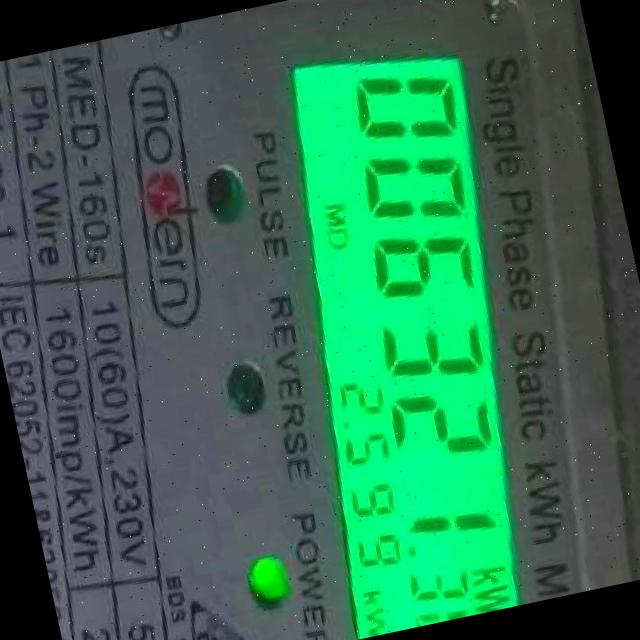LCD: (225, 9, 582, 640)
